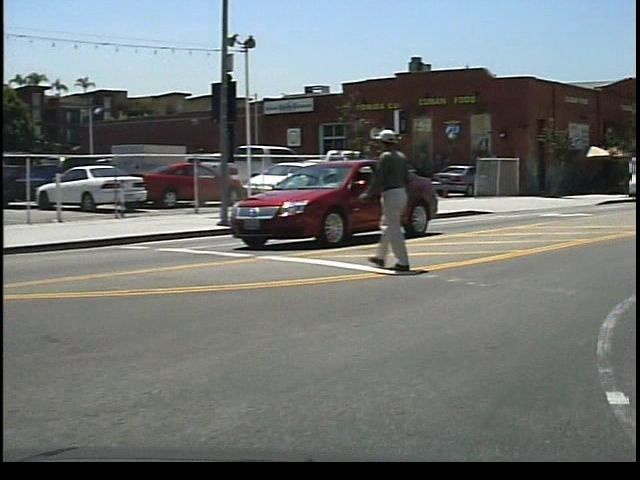person: (369, 122, 440, 280)
